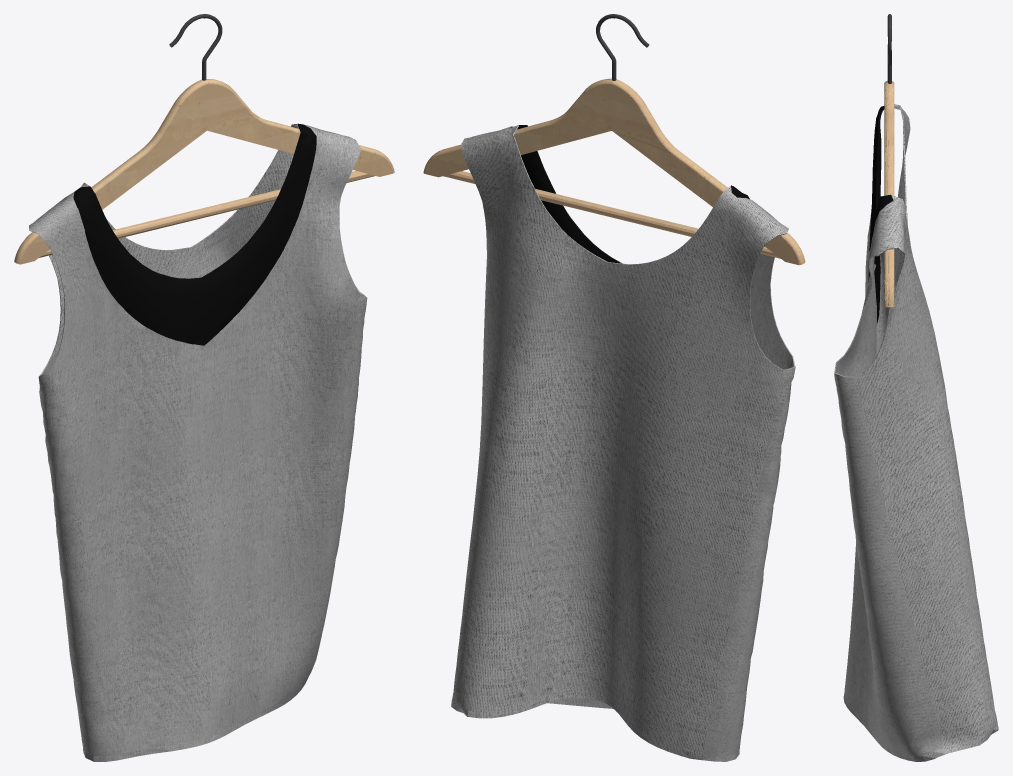
File: Blouse.FBX
The picture shows the model from 3 angles, left to right: view 1: azimuth 30°, elevation 25°; view 2: azimuth 150°, elevation 25°; view 3: azimuth 270°, elevation 25°; orthographic projection. The views are drawn at different scales.
Parts seen in each view (by area): view 1: Blouse, hanger; view 2: Blouse, hanger; view 3: Blouse, hanger.
Part boxes in pixels (box(x1,y1,x2,y2)): Blouse: box(29, 123, 367, 761); hanger: box(14, 14, 394, 264); Blouse: box(451, 125, 795, 761); hanger: box(423, 14, 805, 265); Blouse: box(834, 104, 998, 761); hanger: box(884, 14, 894, 307).
Size of the model in its own units: 361 by 139 by 651.
